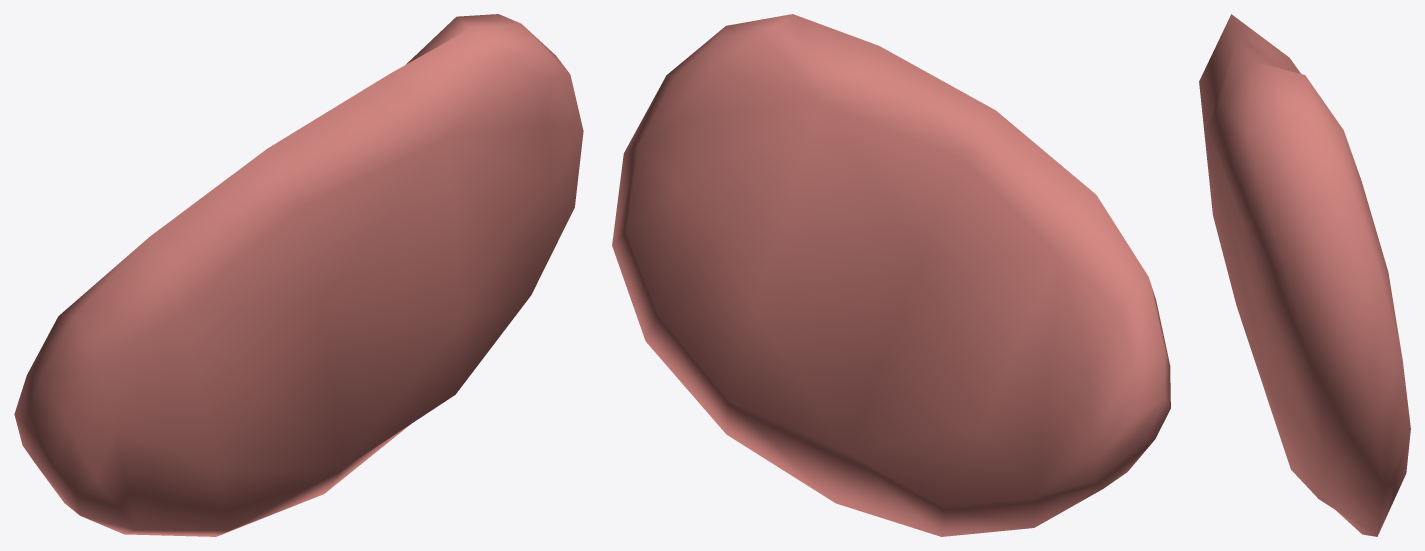
3 renders of one model, left to right at view 1: azimuth 30°, elevation 25°; view 2: azimuth 150°, elevation 25°; view 3: azimuth 270°, elevation 25°, orthographic. The views are drawn at different scales.
Visible parts, largest first — view 1: ZA_26c3871bb48ae81f; view 2: ZA_26c3871bb48ae81f; view 3: ZA_26c3871bb48ae81f.
Boxes of the visible parts, x1,y1,x2,y2 form: ZA_26c3871bb48ae81f: (14, 14, 583, 536); ZA_26c3871bb48ae81f: (612, 14, 1170, 536); ZA_26c3871bb48ae81f: (1199, 14, 1410, 536).
Size of the model in its own units: 0.00266 by 0.00219 by 0.00078.
